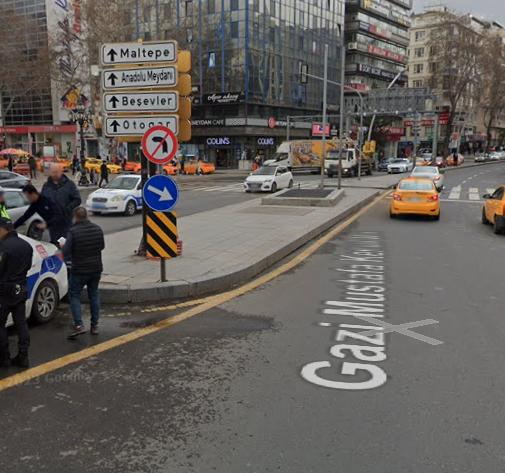leftturnsareforbidden: (141, 126, 177, 164)
